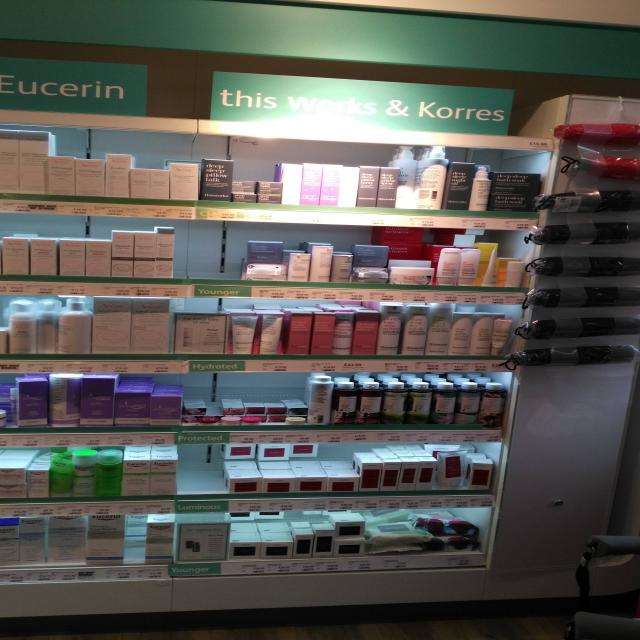empty_space: (0, 0, 36, 21), (0, 0, 36, 19), (0, 0, 32, 20), (0, 0, 31, 20), (0, 0, 11, 54), (0, 0, 14, 42), (0, 0, 11, 52), (0, 0, 22, 26), (0, 0, 26, 22), (0, 0, 15, 38), (0, 0, 27, 20), (0, 0, 9, 54), (0, 0, 10, 48), (0, 0, 11, 42), (0, 0, 10, 46), (0, 0, 32, 14), (0, 0, 8, 55), (0, 0, 8, 54), (0, 0, 9, 46), (0, 0, 7, 57), (0, 0, 9, 42), (0, 0, 7, 54), (0, 0, 7, 51), (0, 0, 7, 50), (0, 0, 6, 58), (0, 0, 7, 46), (0, 0, 8, 40), (0, 0, 10, 32), (0, 0, 7, 45), (0, 0, 8, 39), (0, 0, 10, 30), (0, 0, 13, 23), (0, 0, 7, 41), (0, 0, 7, 40), (0, 0, 6, 46), (0, 0, 7, 39), (0, 0, 8, 34), (0, 0, 7, 38), (0, 0, 8, 33), (0, 0, 7, 37), (0, 0, 6, 43), (0, 0, 8, 32), (0, 0, 7, 36), (0, 0, 6, 42), (0, 0, 6, 41), (0, 0, 7, 35), (0, 0, 6, 40), (0, 0, 15, 16), (0, 0, 7, 34), (0, 0, 4, 58), (0, 0, 7, 33), (0, 0, 5, 46), (0, 0, 6, 38), (0, 0, 7, 32), (0, 0, 14, 16), (0, 0, 6, 36), (0, 0, 12, 18), (0, 0, 6, 35), (0, 0, 5, 42), (0, 0, 5, 41), (0, 0, 5, 40), (0, 0, 5, 38), (0, 0, 5, 37), (0, 0, 13, 14), (0, 0, 9, 20), (0, 0, 5, 35), (0, 0, 9, 19), (0, 0, 10, 17), (0, 0, 13, 13), (0, 0, 7, 24), (0, 0, 11, 15), (0, 0, 6, 27), (0, 0, 12, 13), (0, 0, 11, 14), (0, 0, 9, 17), (0, 0, 8, 19), (0, 0, 5, 30), (0, 0, 4, 37), (0, 0, 8, 18), (0, 0, 8, 17), (0, 0, 5, 27), (0, 0, 9, 15), (0, 0, 5, 26), (0, 0, 9, 14), (0, 0, 5, 25), (0, 0, 4, 31), (0, 0, 5, 24), (0, 0, 9, 13), (0, 0, 4, 28), (0, 0, 7, 15), (0, 0, 15, 7), (0, 0, 4, 25), (0, 0, 7, 12), (0, 0, 7, 9), (0, 0, 5, 12), (0, 0, 6, 10), (0, 0, 7, 8), (0, 0, 6, 9), (0, 0, 7, 7), (0, 0, 8, 6), (0, 0, 5, 9), (0, 0, 6, 7), (0, 0, 4, 8), (0, 0, 5, 6)
